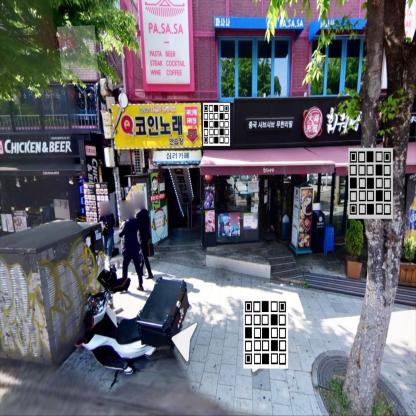qncode: (238, 281, 293, 378), (344, 140, 403, 230), (198, 93, 233, 155)
